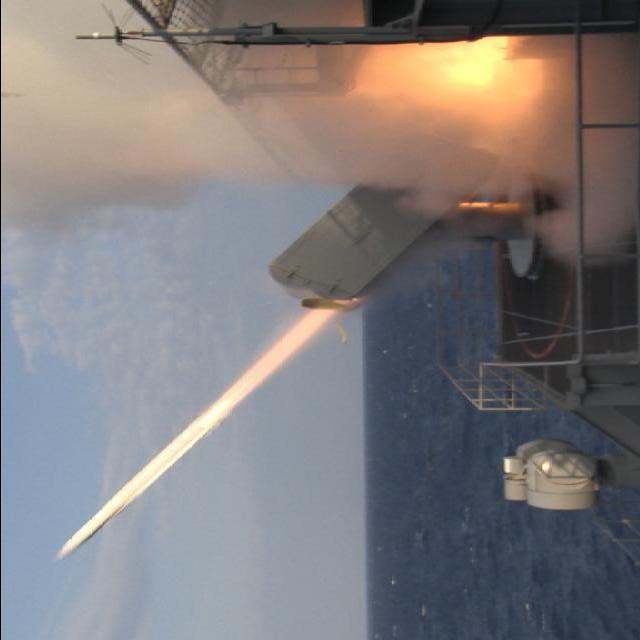missile: (58, 503, 126, 558)
